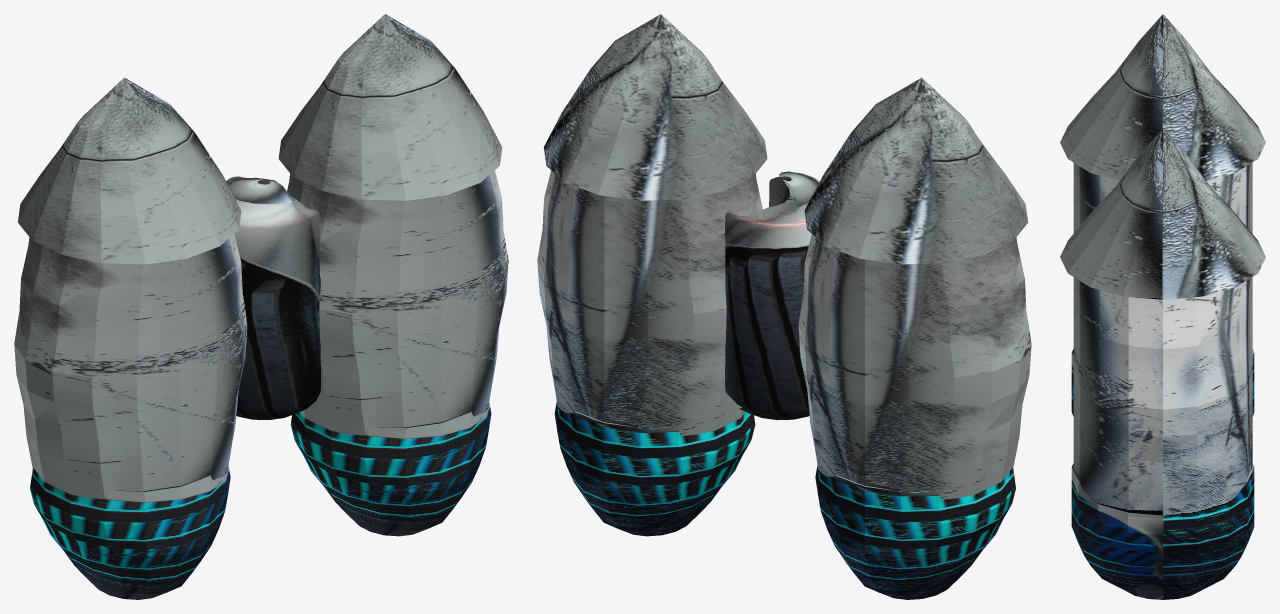
Rendered from jetpack.fbx.
3 views of the same model, side by side, from view 1: azimuth 30°, elevation 25°; view 2: azimuth 150°, elevation 25°; view 3: azimuth 270°, elevation 25° (orthographic). The views are drawn at different scales.
Parts seen in each view (by area): view 1: Cylinder_2, Cylinder_4, Cone, Cone_2, Capsule, Cylinder, Cylinder_3; view 2: Cylinder_2, Cylinder_4, Cone, Cone_2, Capsule, Cylinder, Cylinder_3; view 3: Cylinder_4, Cone_2, Cone, Cylinder_3, Cylinder_2, Cylinder.
Boxes of the visible parts, bbox=[...] form: Cylinder_2: bbox=[14, 234, 247, 499]; Cylinder_4: bbox=[287, 170, 508, 435]; Cone: bbox=[18, 77, 241, 264]; Cone_2: bbox=[278, 14, 502, 200]; Capsule: bbox=[226, 176, 320, 419]; Cylinder: bbox=[30, 465, 230, 599]; Cylinder_3: bbox=[290, 402, 491, 536]; Cylinder_2: bbox=[798, 234, 1031, 499]; Cylinder_4: bbox=[537, 170, 762, 435]; Cone: bbox=[804, 77, 1028, 264]; Cone_2: bbox=[543, 14, 767, 200]; Capsule: bbox=[725, 171, 819, 420]; Cylinder: bbox=[815, 465, 1015, 599]; Cylinder_3: bbox=[554, 401, 755, 536]; Cylinder_4: bbox=[1073, 277, 1252, 515]; Cone_2: bbox=[1060, 129, 1265, 299]; Cone: bbox=[1060, 14, 1265, 180]; Cylinder_3: bbox=[1071, 463, 1254, 599]; Cylinder_2: bbox=[1073, 162, 1252, 233]; Cylinder: bbox=[1071, 349, 1254, 416].
Size of the model in its own units: 2.94 by 3.01 by 1.24.
4 materials, 4 textured.
